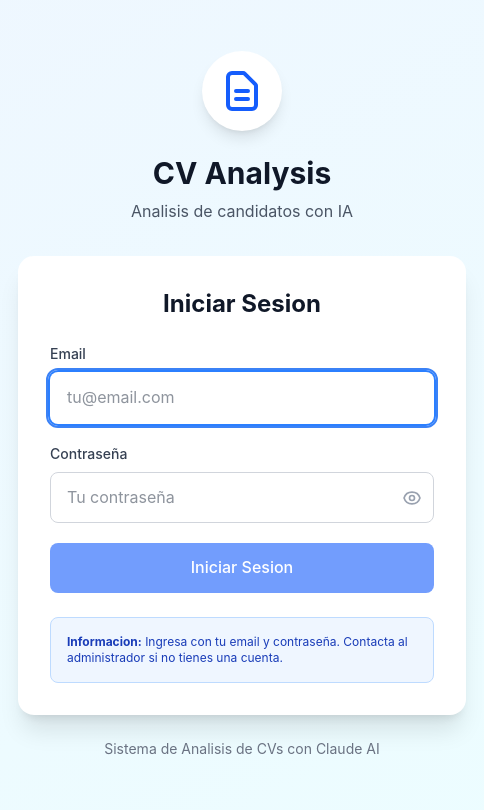
Test: LoginPage › shows error on invalid credentials
The image size is (484, 810).
In the field labelled "Email": (242, 398) [50,372,434,424], type "test@test.com"
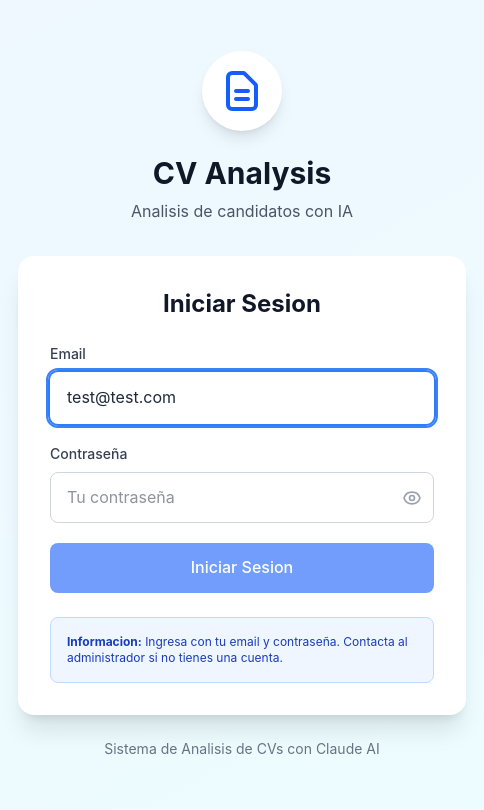
In the password field labelled "Contraseña": (242, 498) [50,472,434,523], type "wrong"
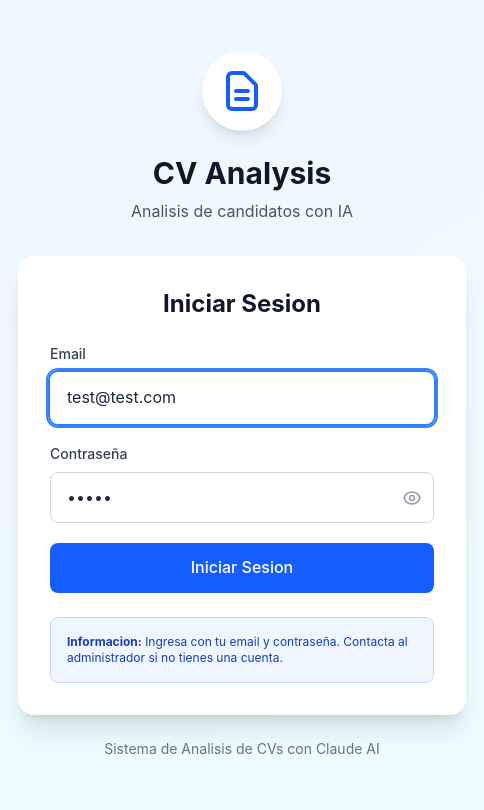
Click the button "Iniciar Sesion": (242, 568) [50,543,434,593]
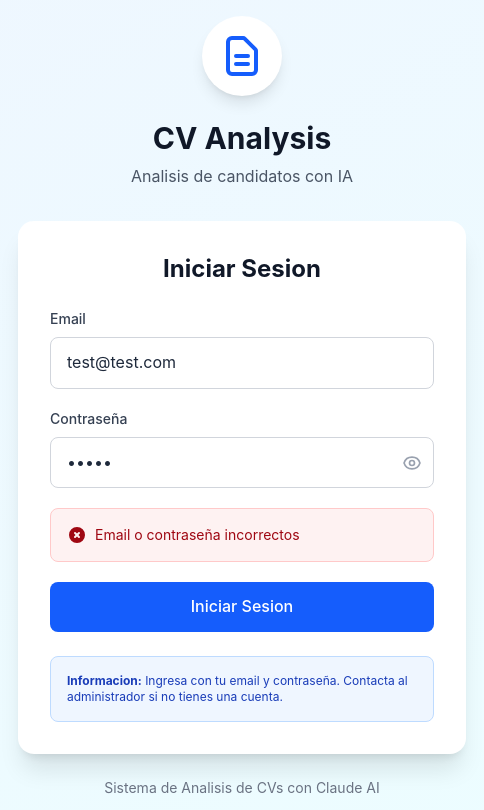
Check: the text "Email o contraseña incorrectos" is shown, box [67,525,300,545]
